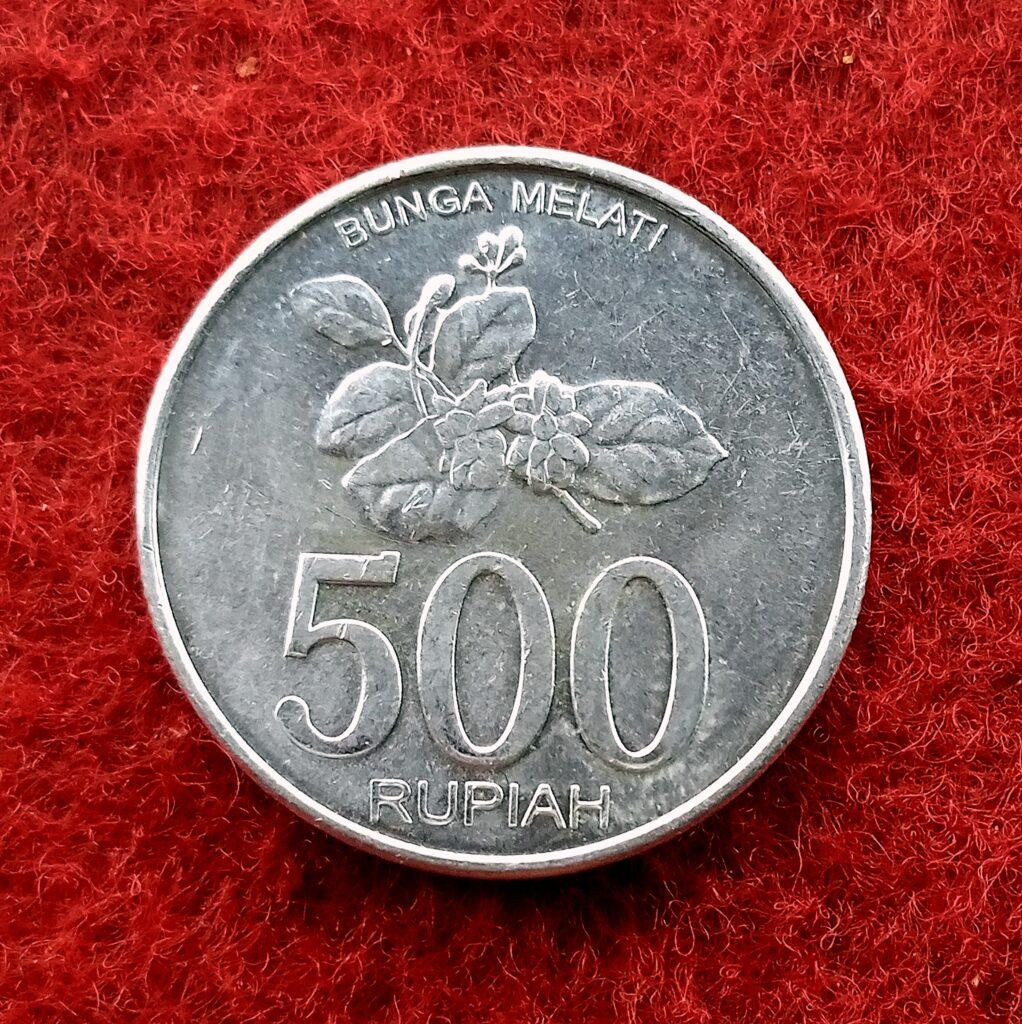coin_500_e2003: (132, 142, 876, 884)
